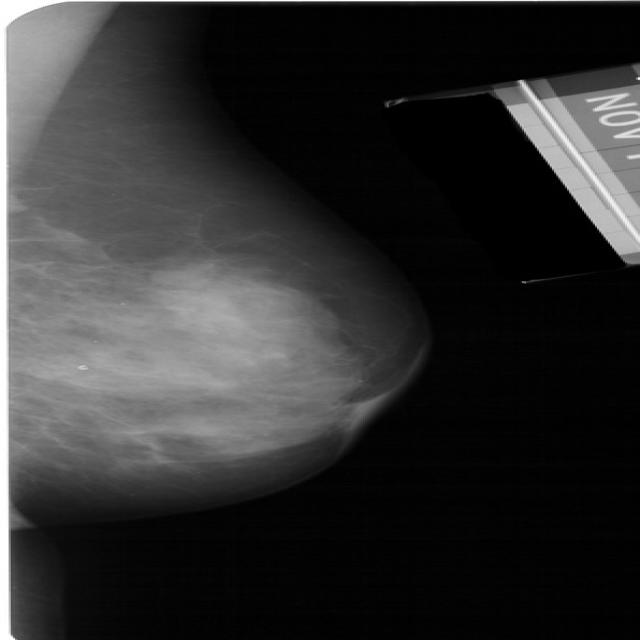tumour: (148, 268, 208, 287)
